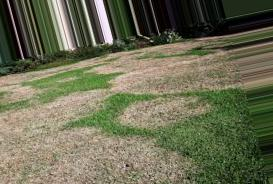patch: (2, 130, 179, 176), (107, 53, 216, 88), (122, 99, 194, 125), (4, 108, 103, 126), (56, 89, 111, 109), (4, 79, 33, 100), (158, 44, 192, 53)
